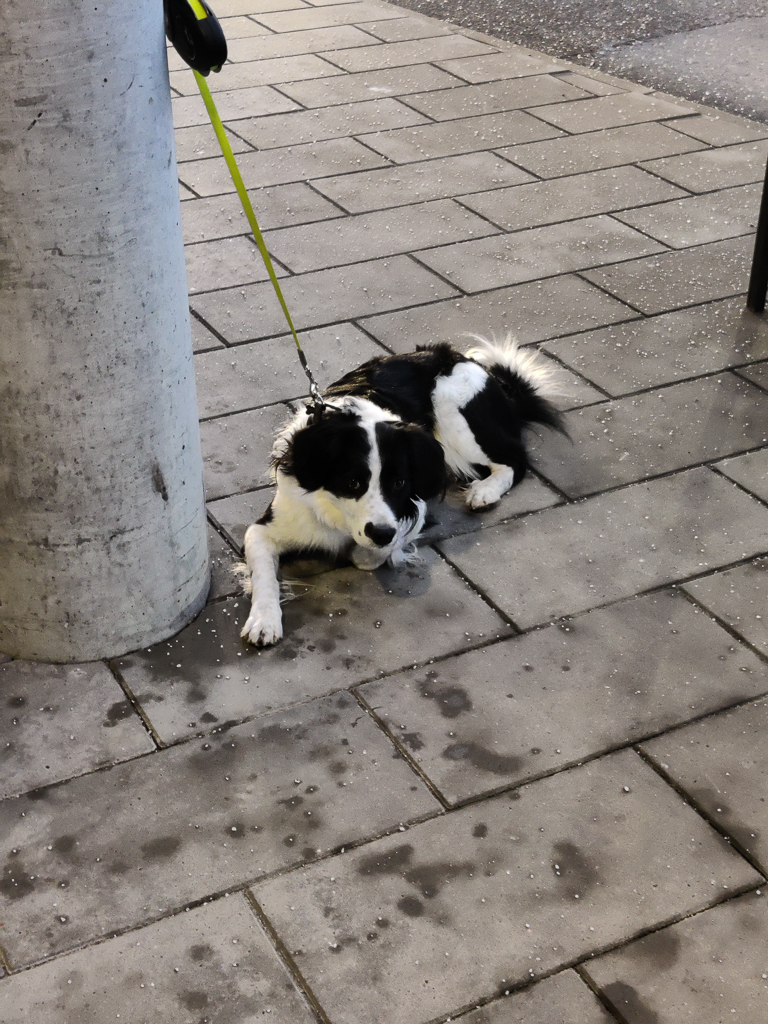Dog: (213, 302, 590, 665)
